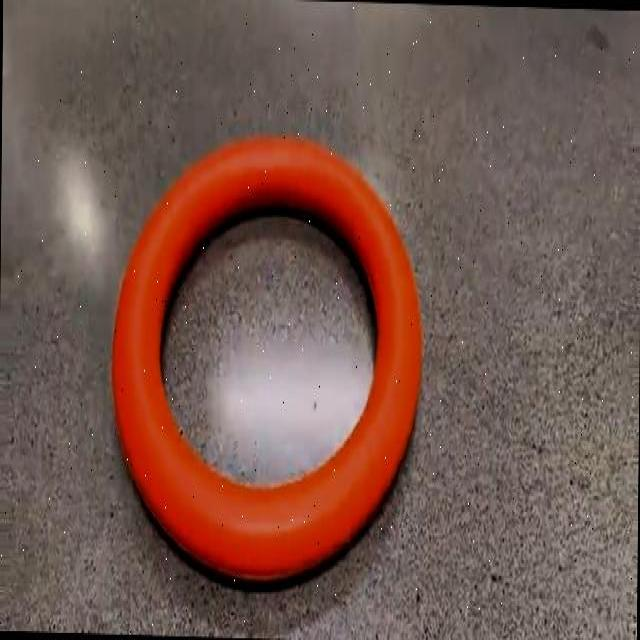note: (112, 138, 422, 580)
